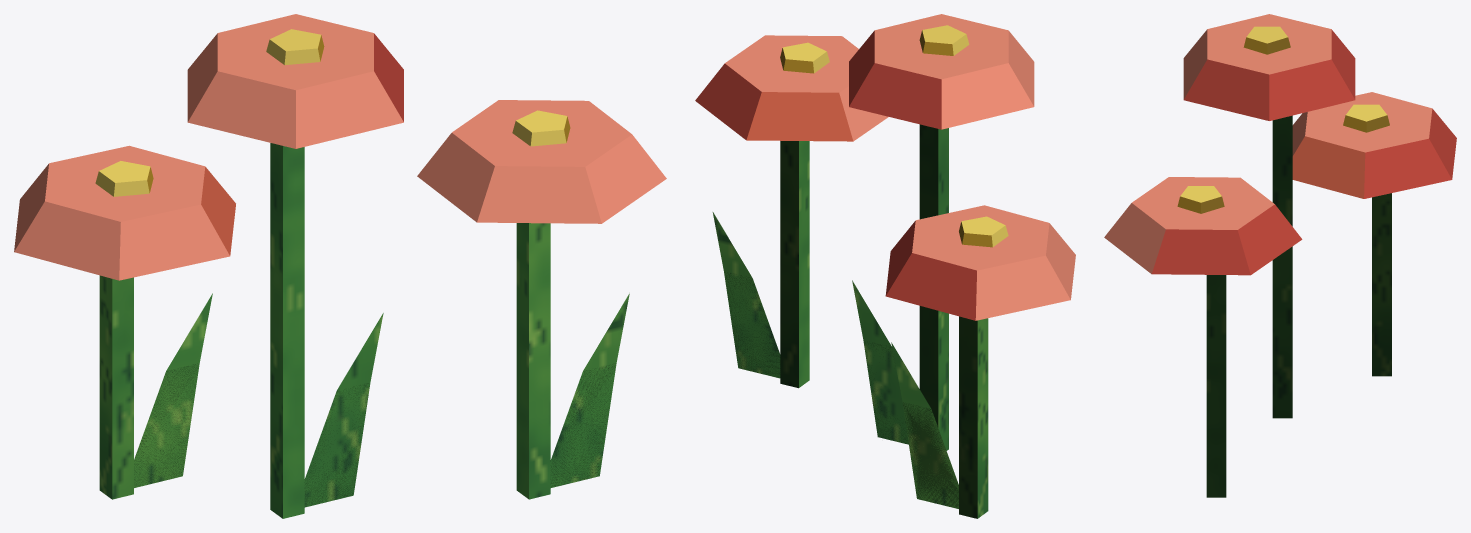
File: flower_red.glb
The picture shows the model from 3 angles, left to right: view 1: azimuth 30°, elevation 25°; view 2: azimuth 150°, elevation 25°; view 3: azimuth 270°, elevation 25°; orthographic projection. The views are drawn at different scales.
Parts seen in each view (by area): view 1: flower_red; view 2: flower_red; view 3: flower_red.
Boxes of the visible parts, x1,y1,x2,y2 form: flower_red: (14, 14, 666, 518); flower_red: (695, 14, 1075, 518); flower_red: (1104, 14, 1456, 497).
Size of the model in its own units: 0.4299 by 0.382 by 0.32.
Materials: 5 (5 with a texture image).
